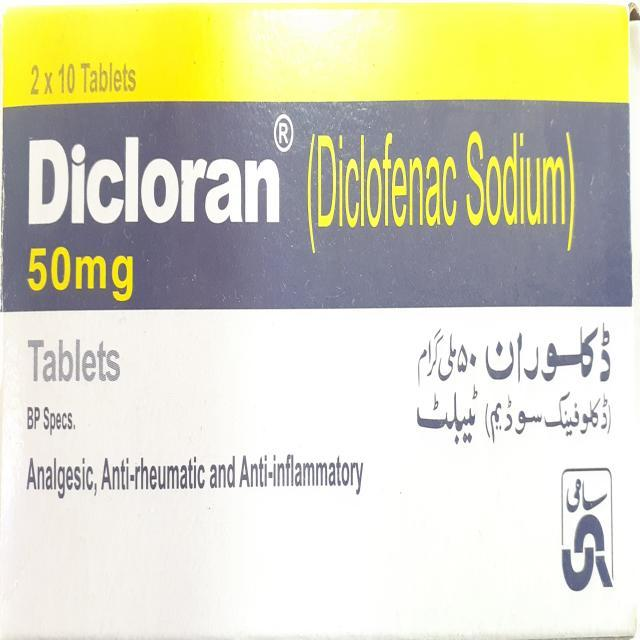drug-name: (22, 137, 279, 229)
